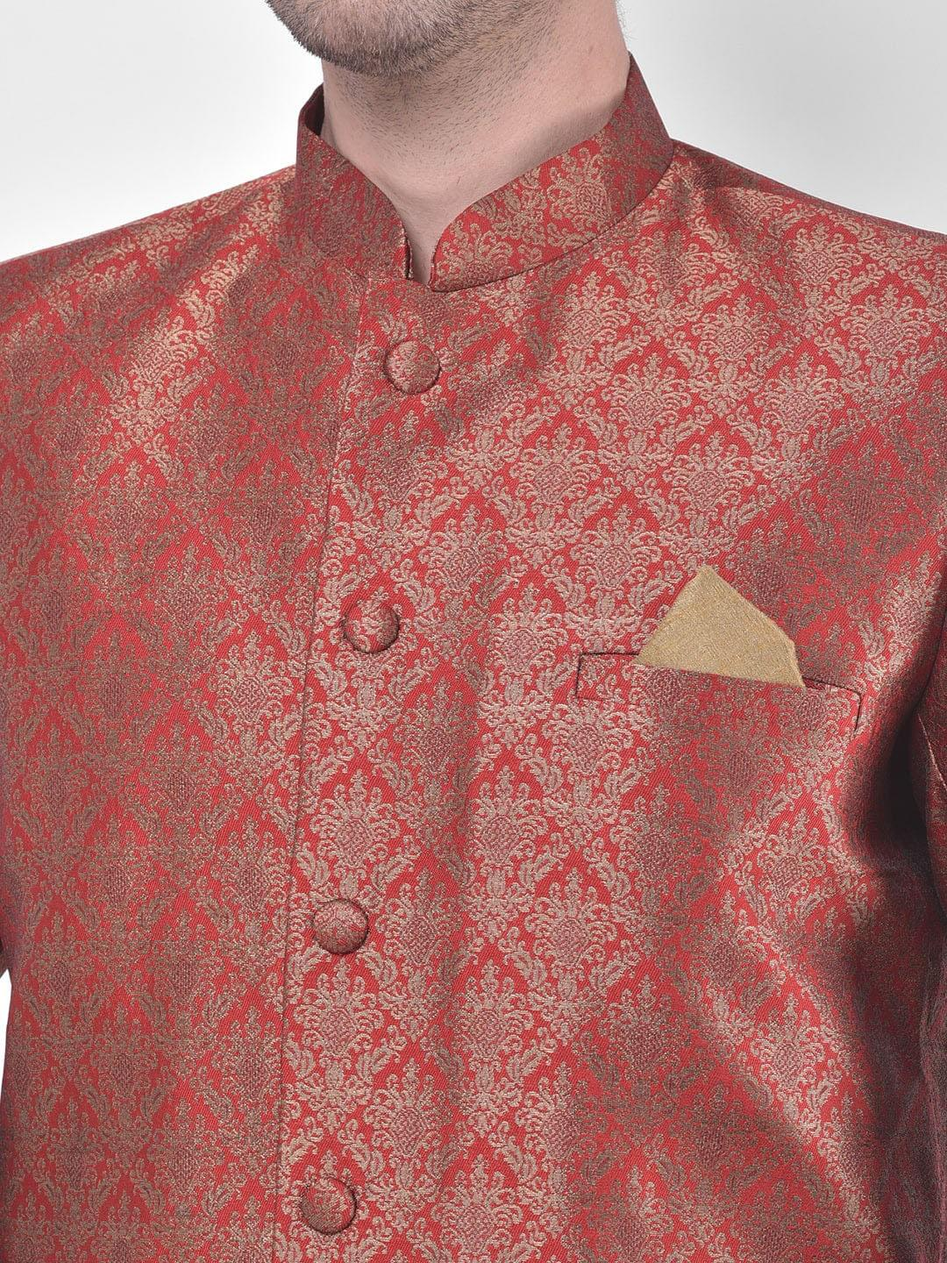Design Sherwani: (3, 50, 945, 1259)
